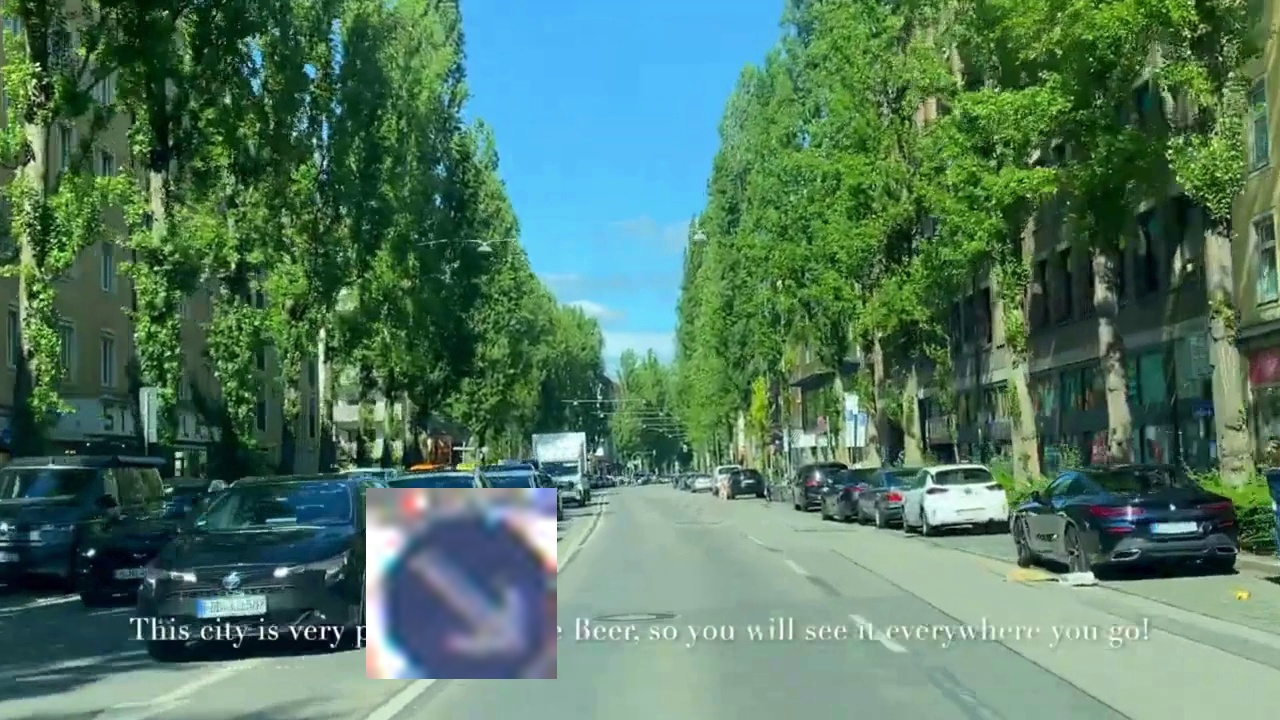Keep right: (366, 488, 557, 679)
